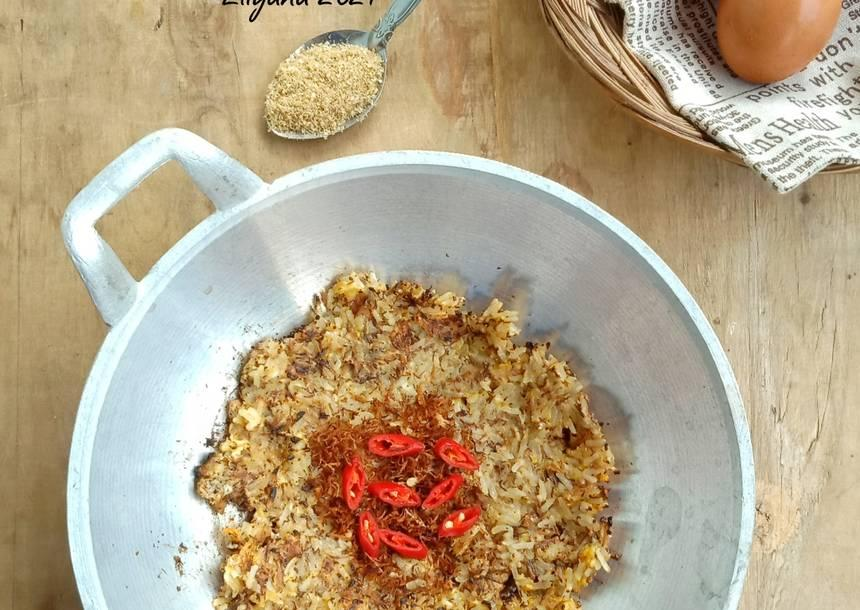kerak_telor: (195, 277, 620, 610)
